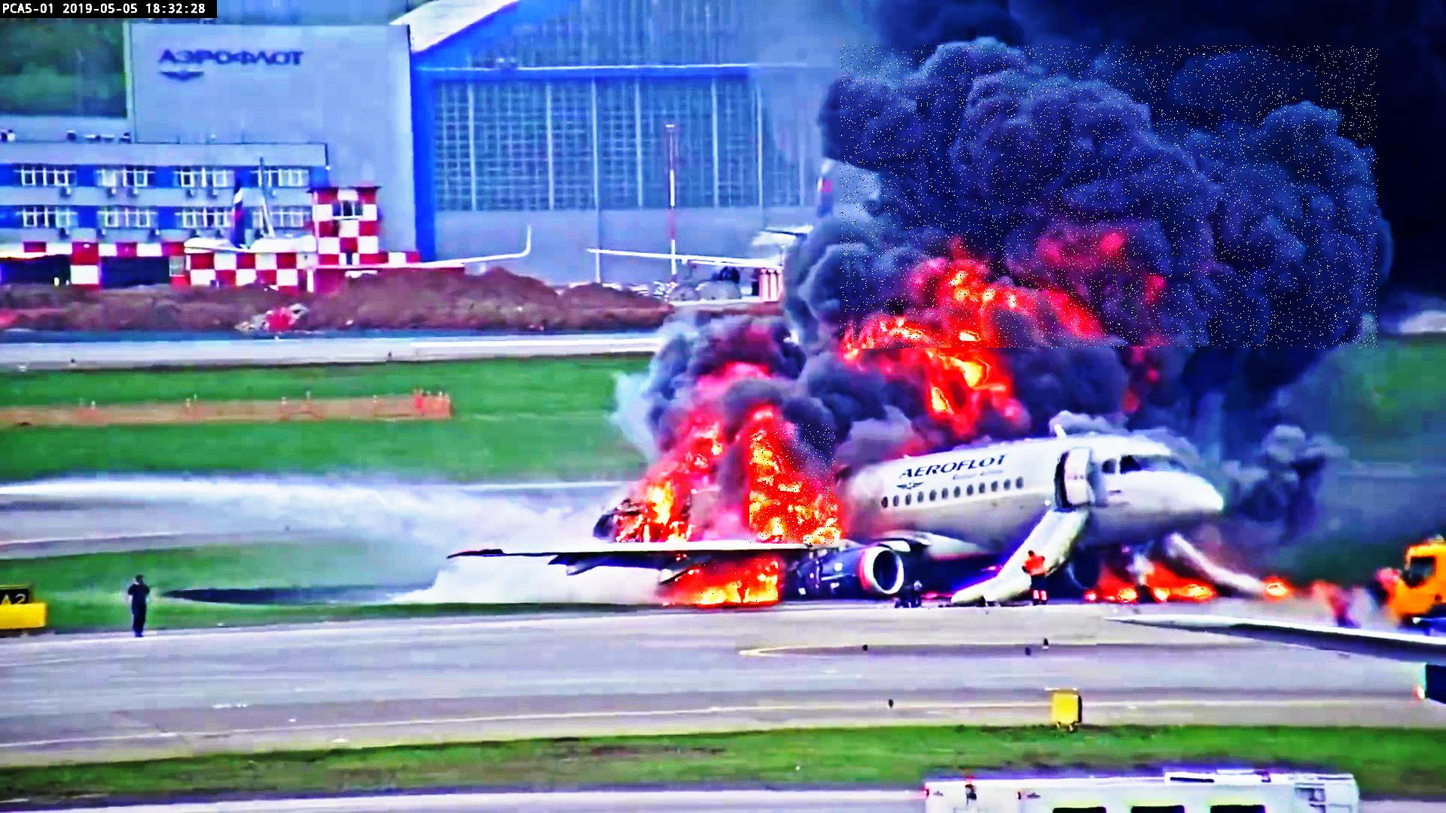fire: (750, 424, 835, 544), (694, 559, 778, 605)
smoke: (840, 45, 1379, 349)
